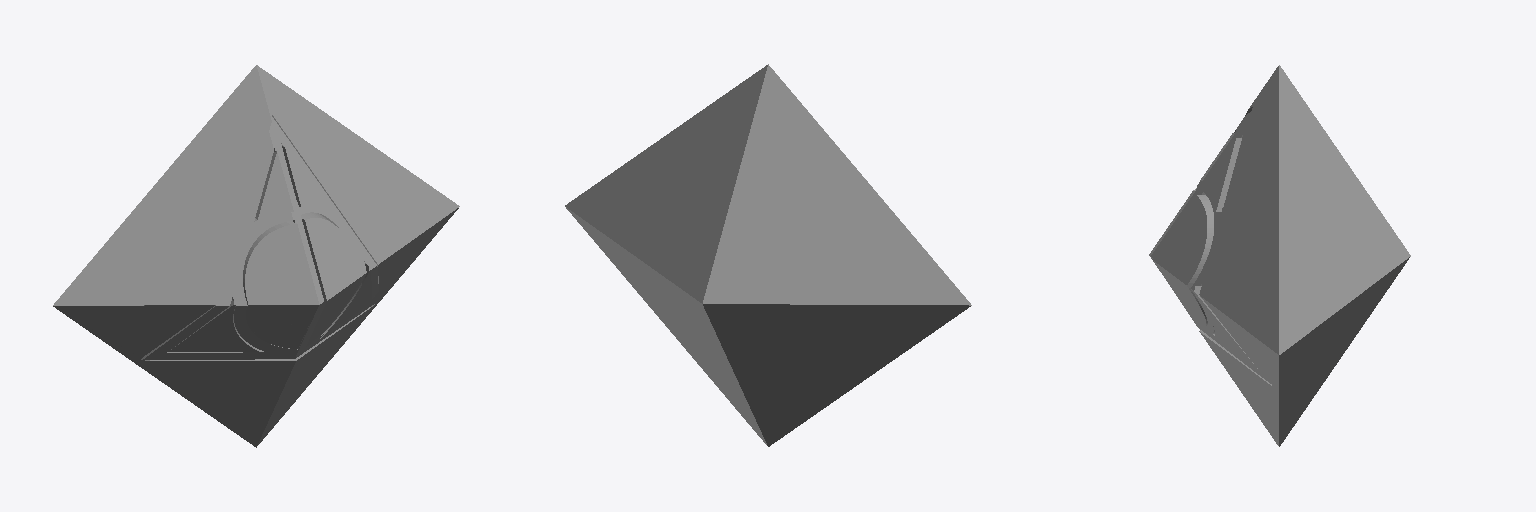
File: stone.obj
3 renders of one model, left to right at view 1: azimuth 30°, elevation 25°; view 2: azimuth 150°, elevation 25°; view 3: azimuth 270°, elevation 25°, orthographic.
Visible parts, largest first — view 1: resurection_stone_Harry_Potter_Resurrection_Stone.001; view 2: resurection_stone_Harry_Potter_Resurrection_Stone.001; view 3: resurection_stone_Harry_Potter_Resurrection_Stone.001.
Part boxes in pixels (x1,y1,x2,y2): resurection_stone_Harry_Potter_Resurrection_Stone.001: (53, 65, 459, 447); resurection_stone_Harry_Potter_Resurrection_Stone.001: (565, 64, 971, 446); resurection_stone_Harry_Potter_Resurrection_Stone.001: (1149, 65, 1410, 446).
Bounding box in the file's own units: 0.1855 × 0.1666 × 0.1033.